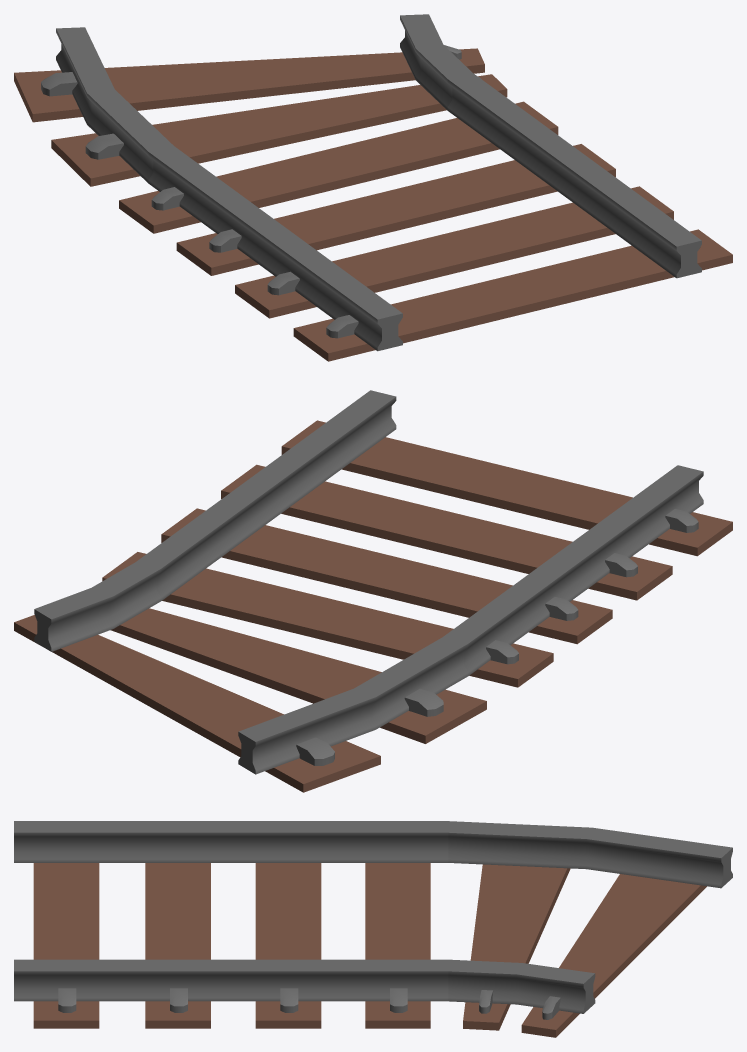
The model's file is Trilho_reto_curva1.fbx.
3 renders of one model, top to bottom at view 1: azimuth 30°, elevation 25°; view 2: azimuth 150°, elevation 25°; view 3: azimuth 270°, elevation 25°, orthographic. The views are drawn at different scales.
Visible parts, largest first — view 1: Trilho_reto_curva1; view 2: Trilho_reto_curva1; view 3: Trilho_reto_curva1.
Part boxes in pixels (left/top/right/bottom): Trilho_reto_curva1: left=14, top=14, right=732, bottom=361; Trilho_reto_curva1: left=14, top=390, right=732, bottom=792; Trilho_reto_curva1: left=14, top=821, right=732, bottom=1037.
Bounding box in the file's own units: 213 × 19.27 × 329.
